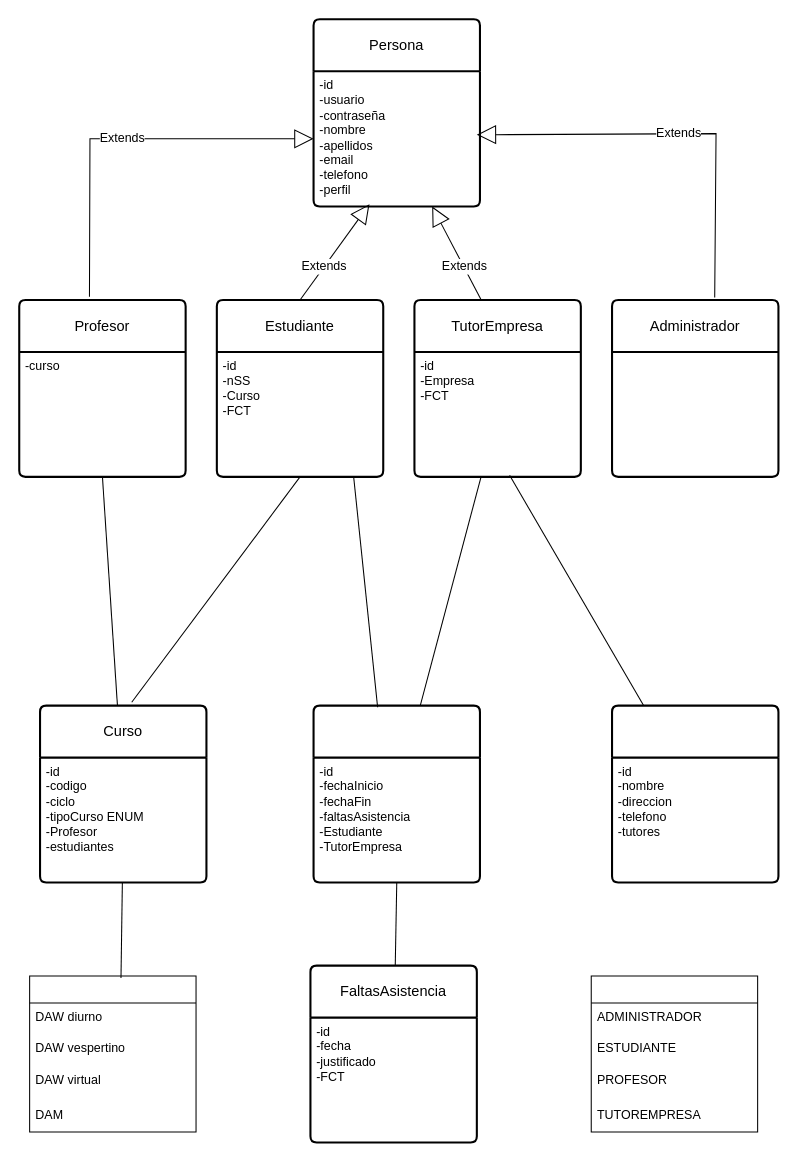
Some shapes in this 797 by 1161 pixel diagram are drawn without their labels. The box of each missing label's shape, as (x1, y1, x2, y2) in pixels:
Empresa: (610, 704, 779, 883)
FCT: (312, 704, 480, 883)
Perfil: (590, 975, 758, 1132)
tipoCurso: (29, 975, 196, 1132)
